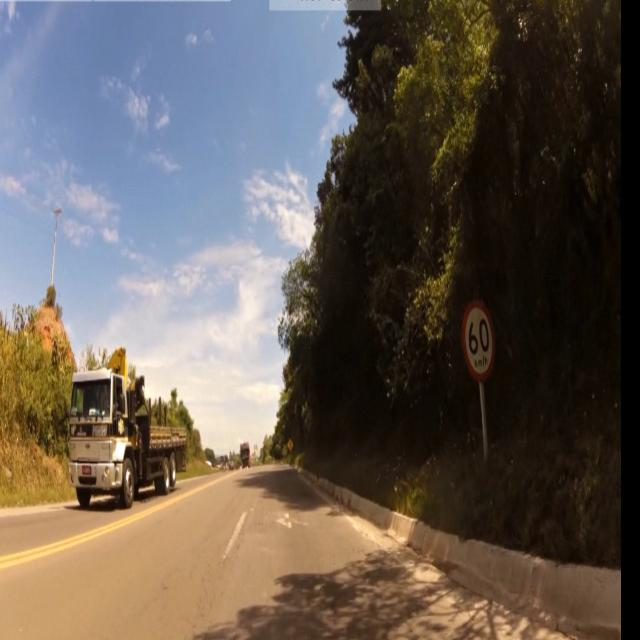R-19: (459, 300, 503, 387)
